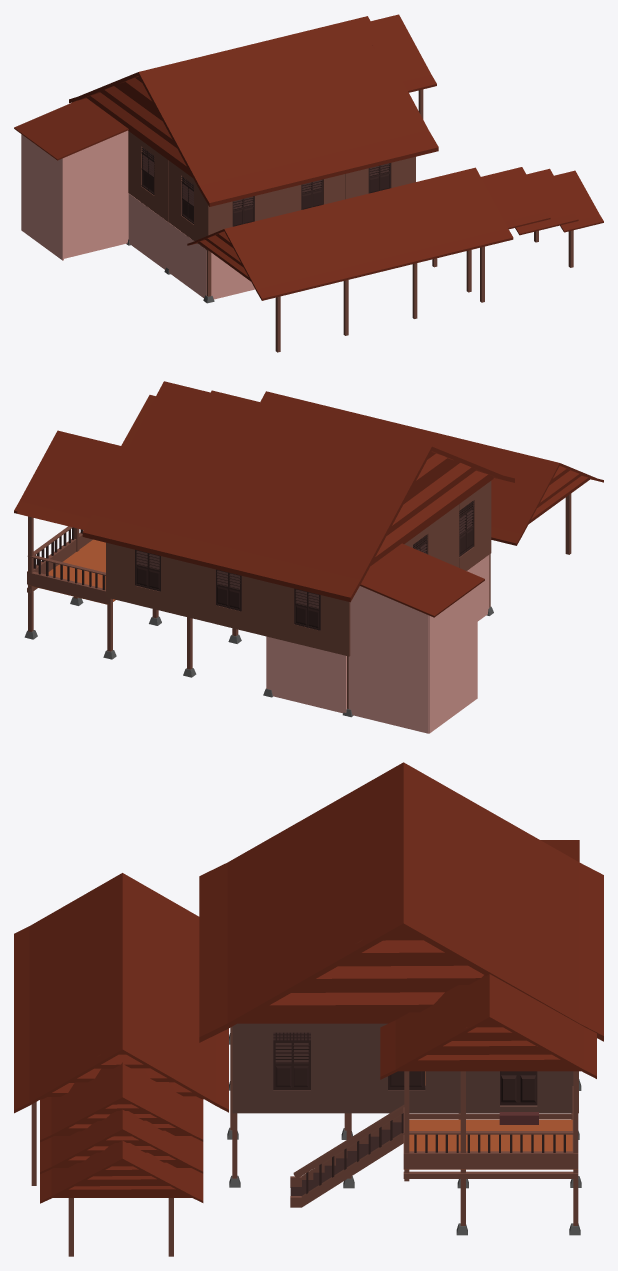
The model's file is rumah_adat_soppeng.glb.
3 views of the same model, one above another, from view 1: azimuth 30°, elevation 25°; view 2: azimuth 150°, elevation 25°; view 3: azimuth 270°, elevation 25° (orthographic). The views are drawn at different scales.
Visible parts, largest first — view 1: Cube.039, Cube.058, Cube.091, Cube.092, Cube.093, Cube.124, Cube.107, Cube.176, Cube.057, Cube.041, Cube.056, Cube.042 (+6 smaller); view 2: Cube.039, Cube.229, Cube.090, Cube.058, Cube.041, Cube.092, Cube.107, Cube.108, Cube.093, Cube.245, Cube.037, Cube.246 (+5 smaller); view 3: Cube.039, Cube.058, Cube.074, Cube.041, Cube.057, Cube.042, Cube.245, Cube.056, Cube.246, Cube.037, Cube.314, Cube.284 (+7 smaller).
Part boxes in pixels (box(x1,y1,x2,y2)): Cube.039: box(69, 16, 438, 206); Cube.058: box(187, 167, 513, 300); Cube.091: box(64, 130, 128, 258); Cube.092: box(21, 134, 63, 260); Cube.093: box(128, 131, 211, 251); Cube.124: box(128, 193, 206, 297); Cube.107: box(14, 98, 128, 160); Cube.176: box(211, 157, 415, 233); Cube.057: box(481, 167, 550, 229); Cube.041: box(371, 14, 436, 92); Cube.056: box(515, 168, 578, 235); Cube.042: box(554, 170, 603, 232); Cube.039: box(82, 381, 514, 602); Cube.229: box(106, 542, 350, 656); Cube.090: box(348, 586, 428, 733); Cube.058: box(259, 391, 603, 545); Cube.041: box(14, 430, 127, 529); Cube.092: box(429, 586, 477, 733); Cube.107: box(360, 543, 484, 617); Cube.108: box(266, 636, 346, 713); Cube.093: box(404, 481, 491, 570); Cube.245: box(27, 526, 108, 604); Cube.037: box(28, 516, 490, 708); Cube.246: box(28, 539, 115, 604); Cube.039: box(199, 762, 603, 1042); Cube.058: box(14, 873, 228, 1113); Cube.074: box(232, 1023, 573, 1113); Cube.041: box(380, 974, 596, 1079); Cube.057: box(40, 1062, 203, 1142); Cube.042: box(40, 1140, 203, 1203); Cube.245: box(403, 1086, 578, 1178); Cube.056: box(40, 1109, 203, 1174); Cube.246: box(404, 1119, 577, 1169); Cube.037: box(230, 1027, 578, 1225); Cube.314: box(273, 1041, 310, 1089); Cube.284: box(290, 1133, 403, 1207).
Bounding box in the file's own units: 118 × 52.93 × 104.
